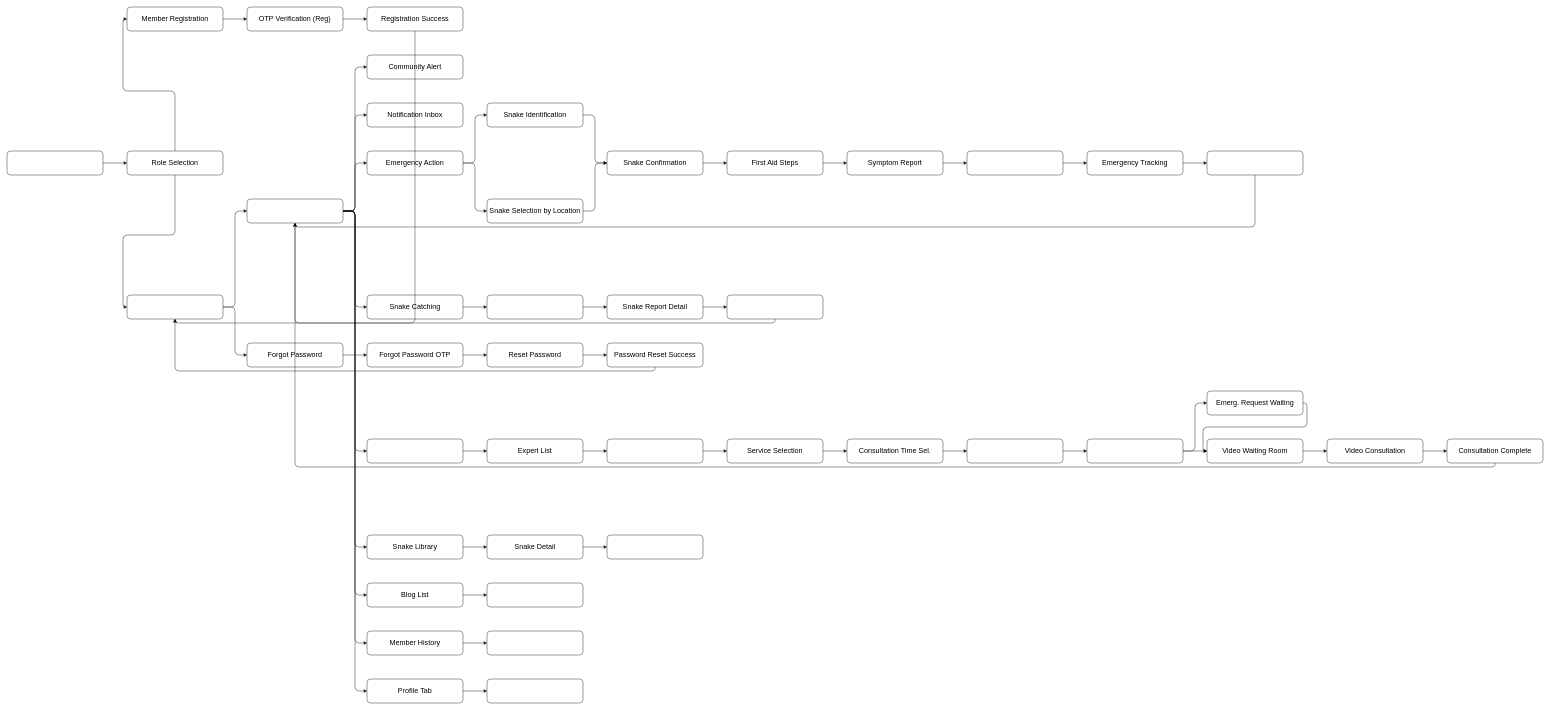
Image size: 1550x710. Some labels were removed from this diagram. Here are the shapes that lost their labels. From the top down, the centre of each, then its label:
the point at 55,163: Splash
the point at 1015,163: Severity Assessment
the point at 1255,163: Incident Finished
the point at 295,211: Member Home
the point at 175,307: Member Login
the point at 535,307: Snake Quantity Selection
the point at 775,307: Snake Catching Success
the point at 415,451: Consultation Home
the point at 655,451: Expert Detail
the point at 1015,451: Consultation Documents
the point at 1135,451: Payment Confirmation
the point at 655,547: Snake First Aid Guide
the point at 535,595: Blog Detail
the point at 535,643: Activity Detail
the point at 535,691: Edit Profile
